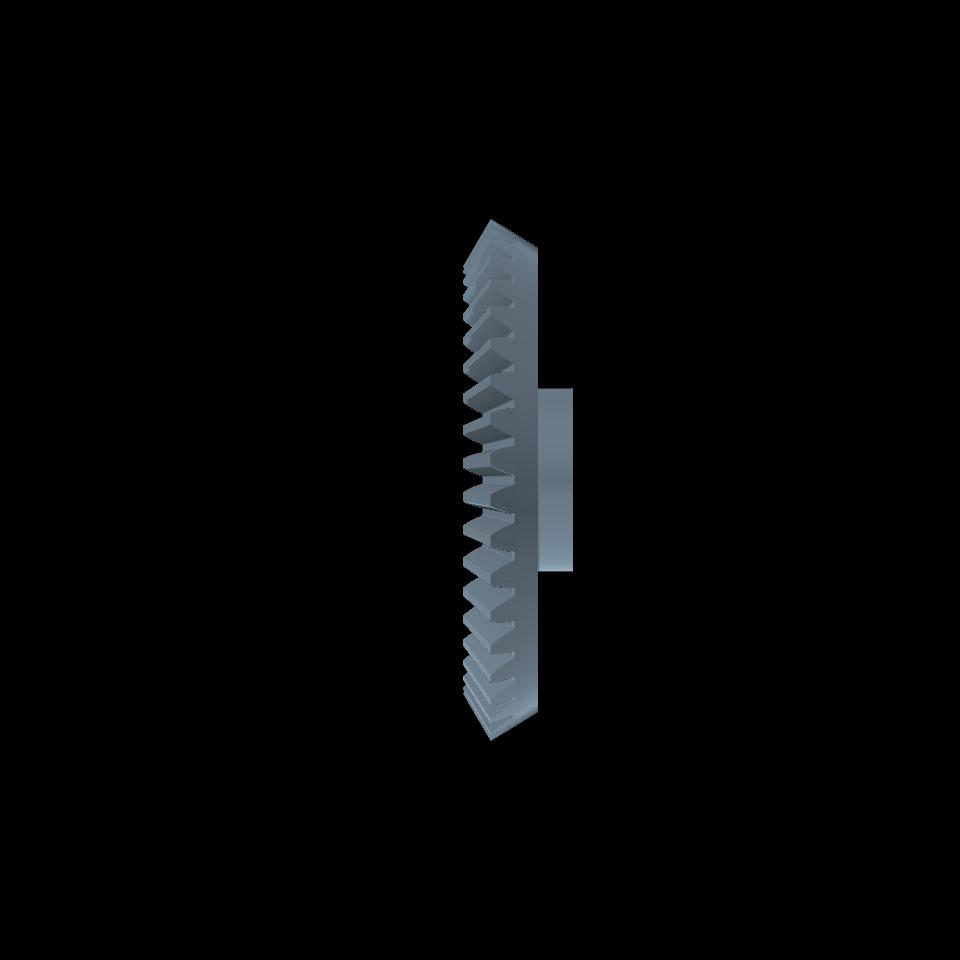Bevel: (462, 220, 539, 738)
